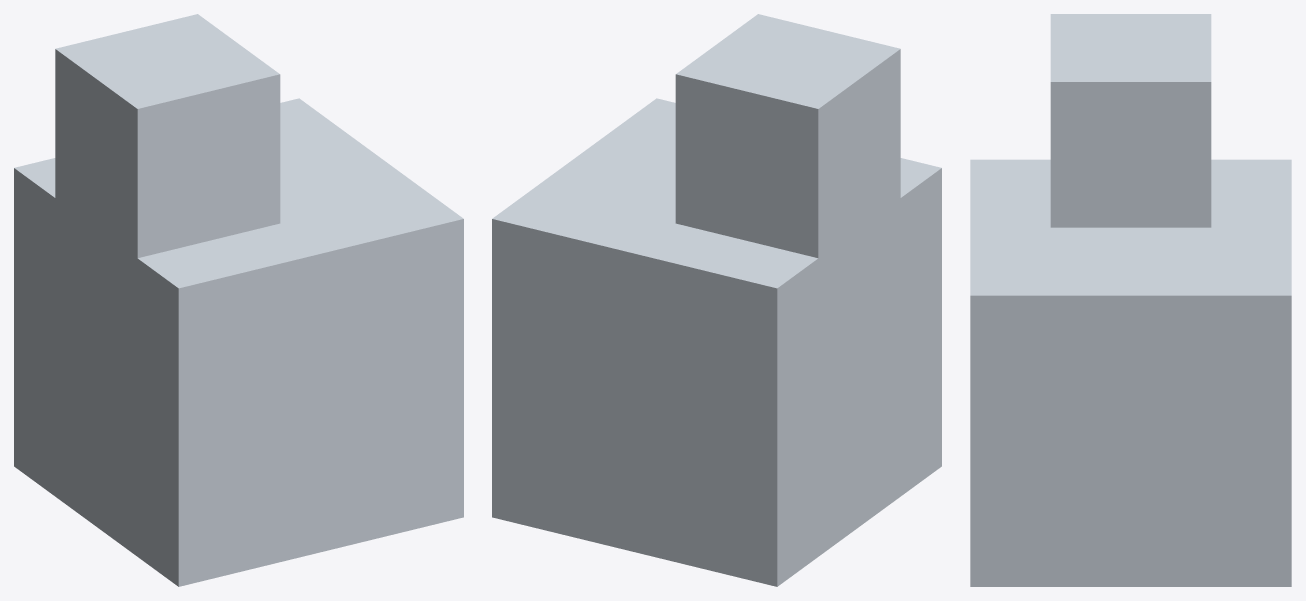
The model's file is silver-fragment.obj.
3 renders of one model, left to right at view 1: azimuth 30°, elevation 25°; view 2: azimuth 150°, elevation 25°; view 3: azimuth 270°, elevation 25°, orthographic. The views are drawn at different scales.
Bounding box in the file's own units: 2 × 3 × 2.
Materials: 1 (1 with a texture image).
